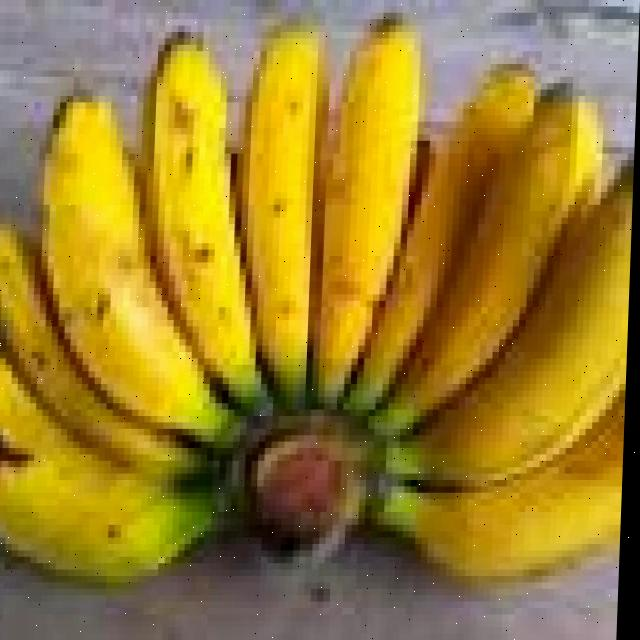banana: (0, 13, 640, 589), (22, 83, 221, 435), (430, 153, 634, 492), (413, 77, 605, 436), (376, 58, 542, 390), (132, 26, 268, 403), (311, 12, 429, 410), (234, 12, 326, 410)
